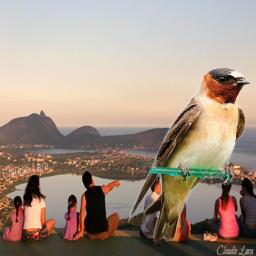Swallow: (128, 67, 251, 242)
